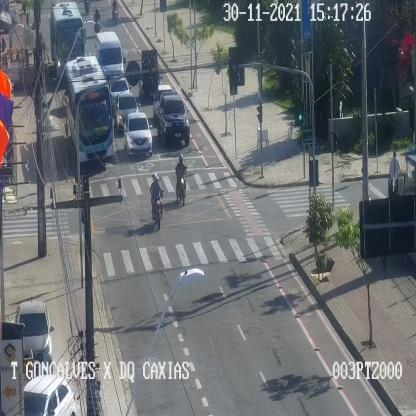bus: (66, 56, 115, 162), (51, 1, 85, 76)
car: (16, 301, 52, 373), (23, 374, 76, 416), (156, 94, 189, 145), (95, 31, 124, 77), (123, 111, 152, 155), (114, 93, 138, 131), (138, 69, 162, 99), (153, 84, 174, 118), (108, 76, 130, 104)
motorbike: (150, 174, 163, 230), (175, 153, 187, 205), (94, 7, 100, 32)
person: (388, 152, 401, 197), (1, 37, 6, 62), (25, 45, 29, 69)
